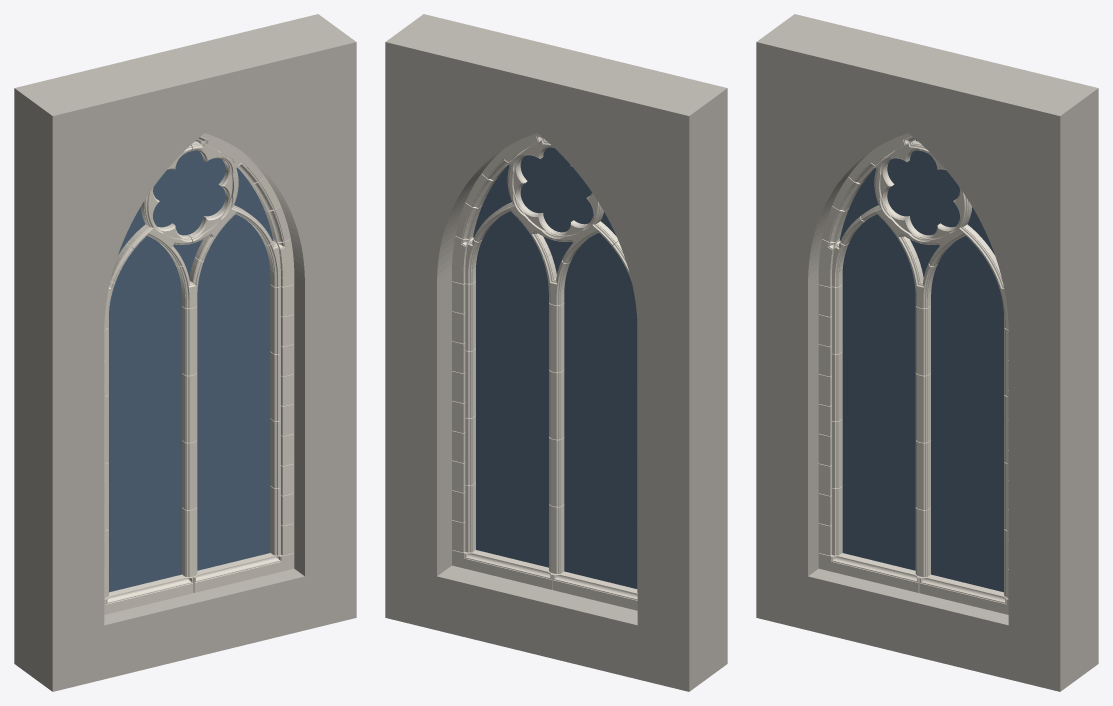
The model's file is bar_2light_sexfoil.glb.
3 views of the same model, side by side, from view 1: azimuth 30°, elevation 25°; view 2: azimuth 150°, elevation 25°; view 3: azimuth 330°, elevation 25° (orthographic).
Parts seen in each view (by area): view 1: bar_2light_sexfoil__wall, bar_2light_sexfoil__glass, bar_2light_sexfoil__stone_T002, bar_2light_sexfoil__stone_F028, bar_2light_sexfoil__stone_F027, bar_2light_sexfoil__stone_T001, bar_2light_sexfoil__stone_T008, bar_2light_sexfoil__stone_T011, bar_2light_sexfoil__stone_T014, bar_2light_sexfoil__stone_T017, bar_2light_sexfoil__stone_F002, bar_2light_sexfoil__stone_T006 (+7 smaller); view 2: bar_2light_sexfoil__wall, bar_2light_sexfoil__glass, bar_2light_sexfoil__stone_T002, bar_2light_sexfoil__stone_F028, bar_2light_sexfoil__stone_F027, bar_2light_sexfoil__stone_T001, bar_2light_sexfoil__stone_T008, bar_2light_sexfoil__stone_T011, bar_2light_sexfoil__stone_T014, bar_2light_sexfoil__stone_T017, bar_2light_sexfoil__stone_F002, bar_2light_sexfoil__stone_T006 (+7 smaller); view 3: bar_2light_sexfoil__wall, bar_2light_sexfoil__glass, bar_2light_sexfoil__stone_T001, bar_2light_sexfoil__stone_F027, bar_2light_sexfoil__stone_T002, bar_2light_sexfoil__stone_F028, bar_2light_sexfoil__stone_T008, bar_2light_sexfoil__stone_T011, bar_2light_sexfoil__stone_T014, bar_2light_sexfoil__stone_T017, bar_2light_sexfoil__stone_F001, bar_2light_sexfoil__stone_T006 (+7 smaller).
Part boxes in pixels (x1,y1,x2,y2): bar_2light_sexfoil__wall: (14, 14, 356, 691); bar_2light_sexfoil__glass: (108, 140, 273, 592); bar_2light_sexfoil__stone_T002: (188, 140, 272, 260); bar_2light_sexfoil__stone_F028: (192, 553, 294, 592); bar_2light_sexfoil__stone_F027: (104, 574, 193, 614); bar_2light_sexfoil__stone_T001: (126, 145, 192, 266); bar_2light_sexfoil__stone_T008: (182, 306, 197, 375); bar_2light_sexfoil__stone_T011: (182, 373, 197, 442); bar_2light_sexfoil__stone_T014: (182, 440, 197, 509); bar_2light_sexfoil__stone_T017: (182, 507, 197, 577); bar_2light_sexfoil__stone_F002: (197, 133, 264, 183); bar_2light_sexfoil__stone_T006: (175, 257, 203, 308); bar_2light_sexfoil__wall: (385, 14, 727, 691); bar_2light_sexfoil__glass: (473, 147, 637, 588); bar_2light_sexfoil__stone_T002: (473, 139, 557, 257); bar_2light_sexfoil__stone_F028: (452, 550, 553, 589); bar_2light_sexfoil__stone_F027: (552, 571, 637, 610); bar_2light_sexfoil__stone_T001: (553, 165, 618, 263); bar_2light_sexfoil__stone_T008: (549, 303, 564, 372); bar_2light_sexfoil__stone_T011: (549, 370, 564, 439); bar_2light_sexfoil__stone_T014: (549, 437, 564, 506); bar_2light_sexfoil__stone_T017: (549, 504, 564, 573); bar_2light_sexfoil__stone_F002: (481, 133, 543, 180); bar_2light_sexfoil__stone_T006: (542, 254, 570, 305); bar_2light_sexfoil__wall: (756, 14, 1098, 691); bar_2light_sexfoil__glass: (839, 140, 1004, 592); bar_2light_sexfoil__stone_T001: (860, 140, 924, 260); bar_2light_sexfoil__stone_F027: (818, 553, 920, 592); bar_2light_sexfoil__stone_T002: (920, 145, 1002, 282); bar_2light_sexfoil__stone_F028: (919, 574, 1008, 614); bar_2light_sexfoil__stone_T008: (915, 306, 930, 375); bar_2light_sexfoil__stone_T011: (915, 373, 930, 442); bar_2light_sexfoil__stone_T014: (915, 440, 930, 509); bar_2light_sexfoil__stone_T017: (915, 507, 930, 577); bar_2light_sexfoil__stone_F001: (848, 133, 915, 183); bar_2light_sexfoil__stone_T006: (909, 257, 937, 308).
Size of the model in its own units: 4120 by 7461 by 900.
